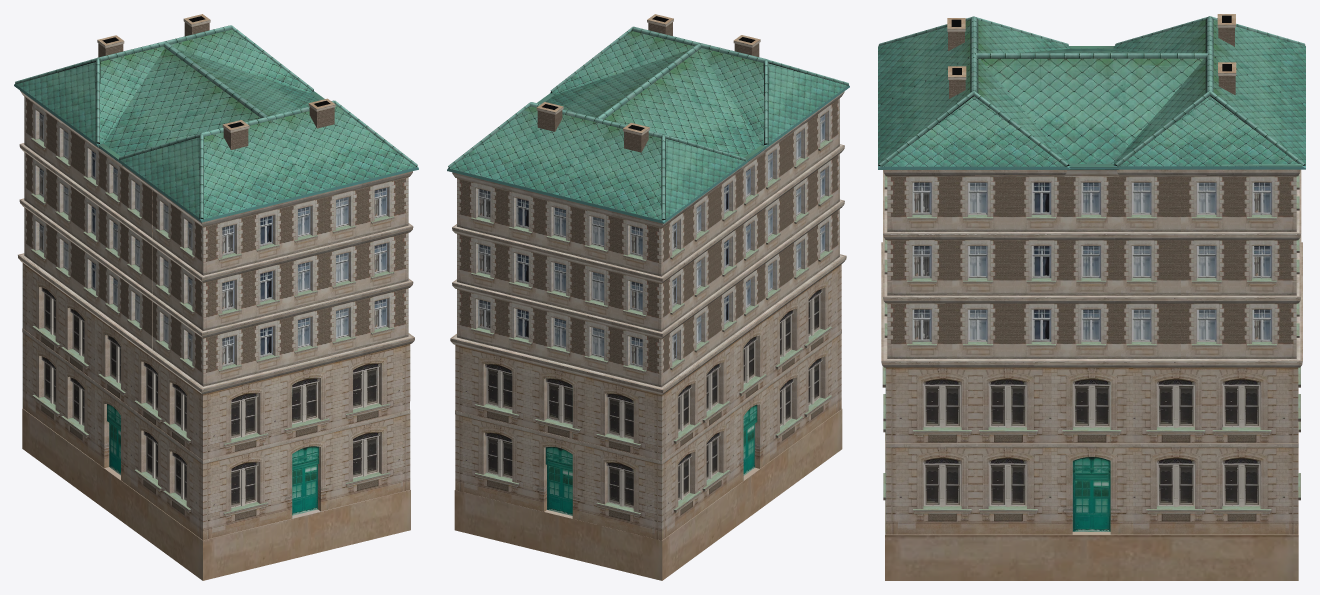
The model's file is jade.glb.
3 views of the same model, side by side, from view 1: azimuth 30°, elevation 25°; view 2: azimuth 150°, elevation 25°; view 3: azimuth 270°, elevation 25° (orthographic). The views are drawn at different scales.
Parts seen in each view (by area): view 1: Floorshape_0, Floorshape.001_2, Roof_1, Floorshape.002_3, Floorshape.006_7, Floorshape.003_4; view 2: Floorshape_0, Floorshape.001_2, Roof_1, Floorshape.002_3, Floorshape.005_6, Floorshape.003_4; view 3: Floorshape_0, Roof_1, Floorshape.001_2, Floorshape.002_3, Floorshape.004_5.
Boxes of the visible parts, x1,y1,x2,y2 form: Floorshape_0: (18, 96, 414, 394); Floorshape.001_2: (22, 302, 410, 580); Roof_1: (14, 14, 418, 226); Floorshape.002_3: (22, 263, 410, 460); Floorshape.006_7: (263, 377, 330, 445); Floorshape.003_4: (98, 335, 125, 399); Floorshape_0: (450, 98, 846, 394); Floorshape.001_2: (454, 329, 842, 580); Roof_1: (447, 14, 849, 228); Floorshape.002_3: (455, 264, 841, 460); Floorshape.005_6: (535, 378, 580, 438); Floorshape.003_4: (739, 336, 766, 400); Floorshape_0: (881, 170, 1302, 367); Roof_1: (878, 14, 1305, 176); Floorshape.001_2: (883, 388, 1300, 580); Floorshape.002_3: (883, 367, 1300, 442); Floorshape.004_5: (1062, 378, 1121, 442).
Size of the model in its own units: 12.73 by 23.24 by 18.88.
Materials: 1 (1 with a texture image).
